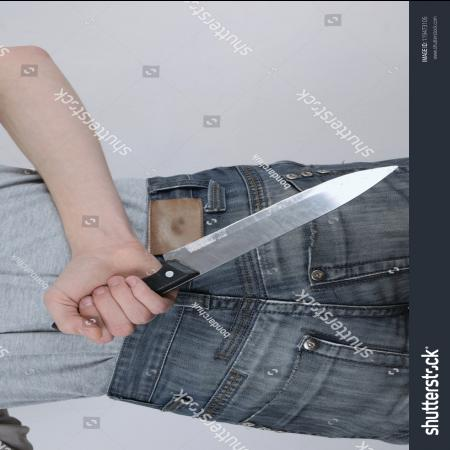long weapon: (90, 161, 402, 345)
